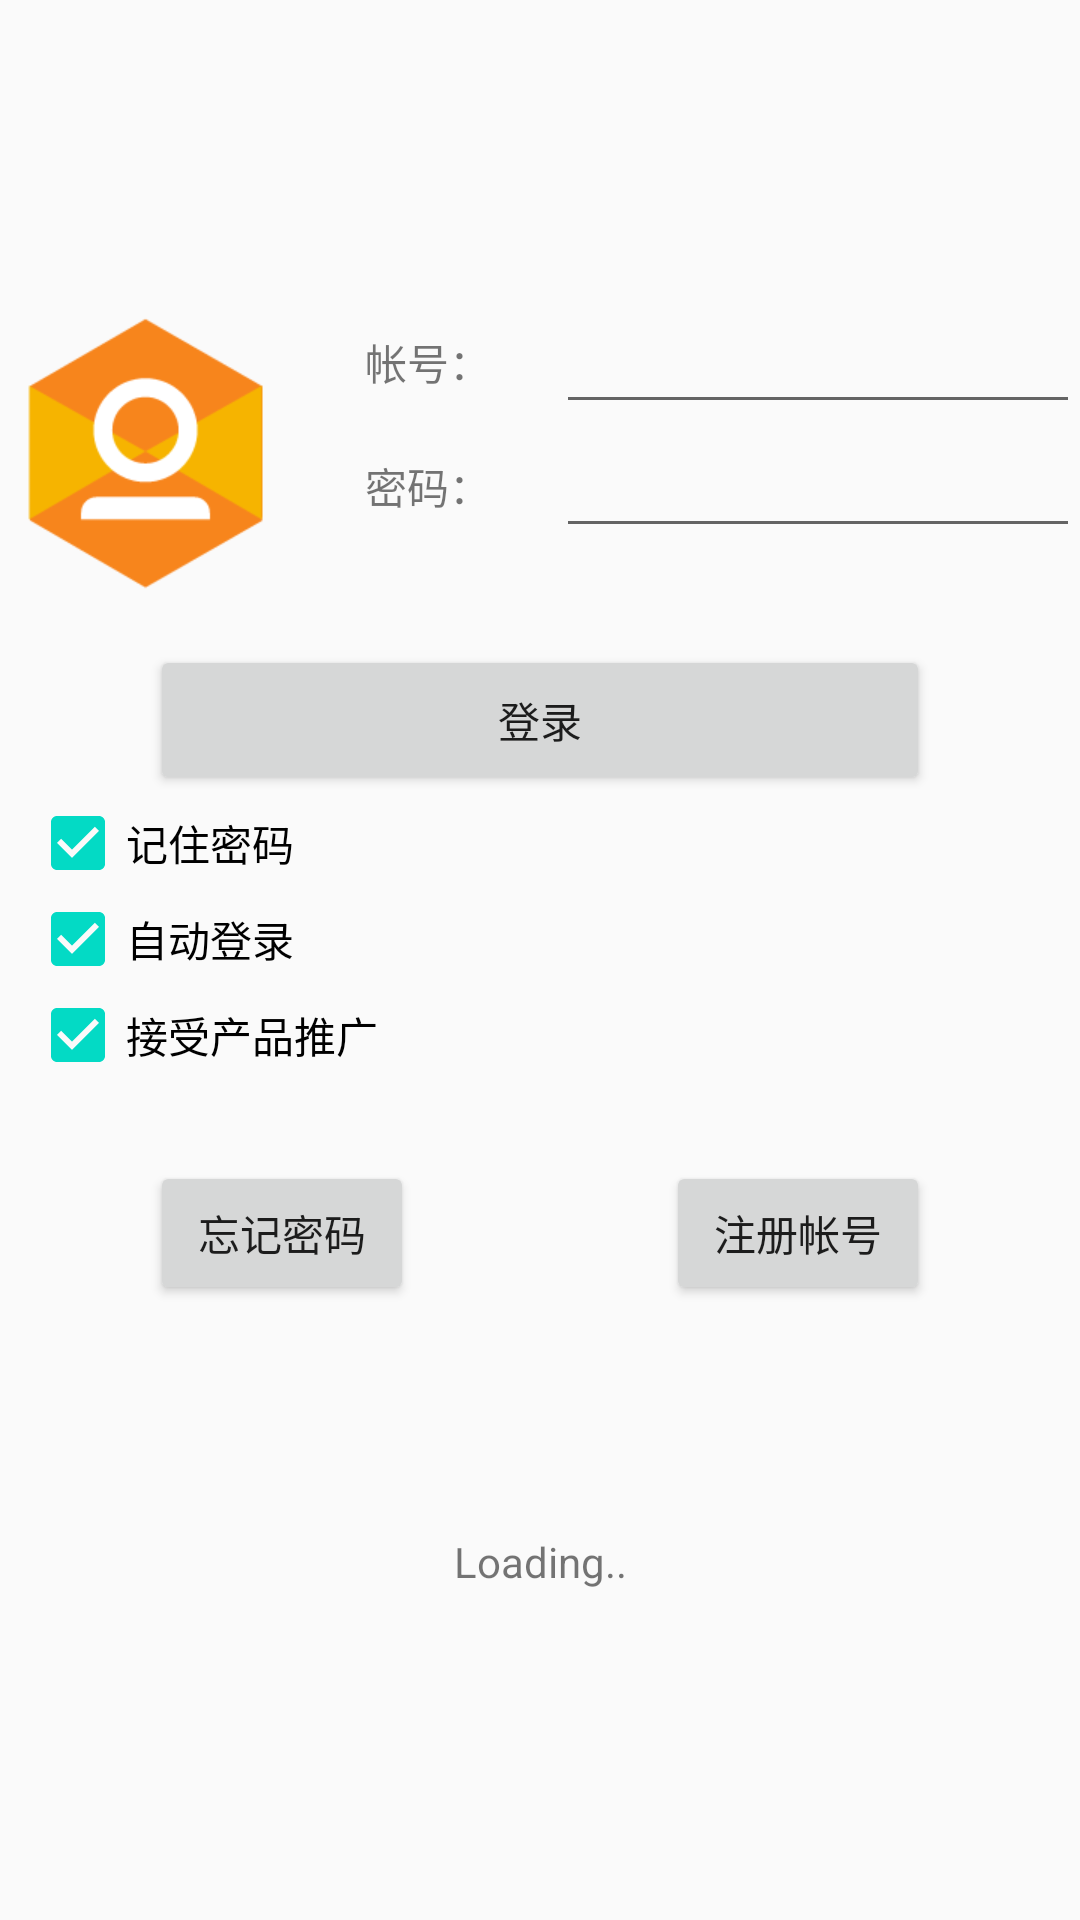

Icon click points for this 1080×1920 phone screenshot, format (x=x, y=y):
login: (x=145, y=453)
